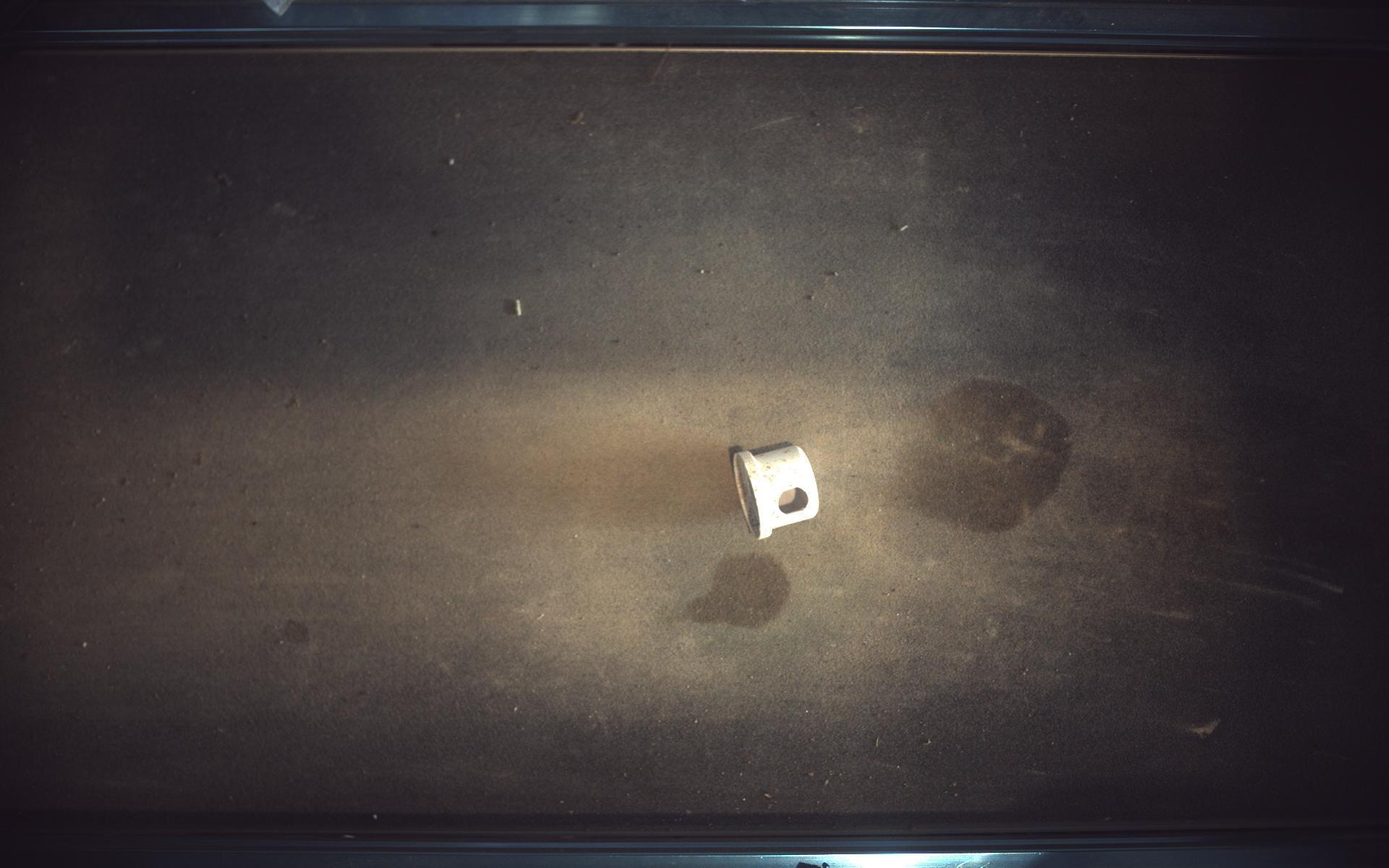general_w: (734, 445, 820, 540)
